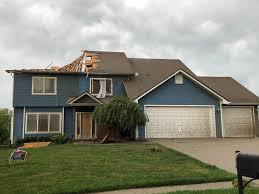major: (3, 38, 259, 138)
